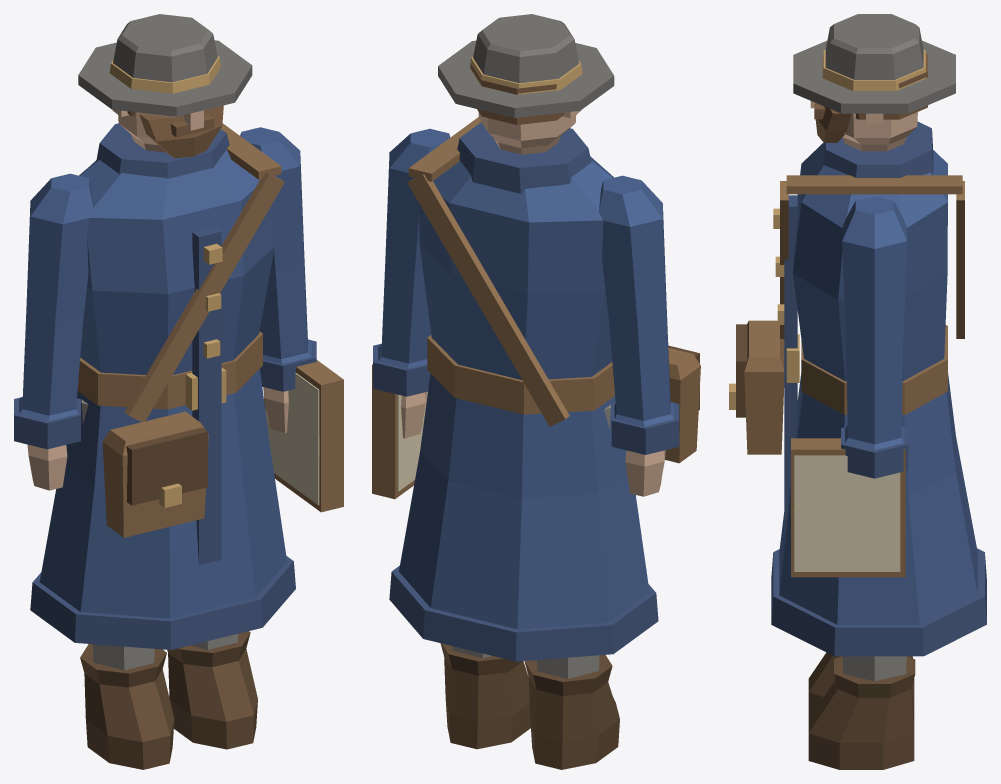
Rendered from cr-merchant.glb.
3 renders of one model, left to right at view 1: azimuth 30°, elevation 25°; view 2: azimuth 150°, elevation 25°; view 3: azimuth 270°, elevation 25°, orthographic.
Parts seen in each view (by area): view 1: coat, arm_r, hat, coat_hem, boot_r, boot_l, arm_l, coat_placket, strap_front, satchel, satchel_flap, ledger_pages (+13 smaller); view 2: coat, arm_r, hat, coat_hem, arm_l, boot_r, boot_l, strap_back, belt, collar, ledger, satchel (+10 smaller); view 3: coat, arm_l, ledger_pages, hat, boot_l, coat_hem, satchel, collar, strap_shoulder, belt, coat_placket, ledger (+11 smaller).
Part boxes in pixels (x1,y1,x2,y2): coat: (39, 150, 286, 618); arm_r: (19, 173, 93, 421); hat: (78, 14, 252, 116); coat_hem: (30, 556, 295, 649); boot_r: (80, 644, 174, 769); boot_l: (167, 631, 257, 749); arm_l: (240, 127, 311, 364); coat_placket: (192, 227, 221, 565); strap_front: (124, 172, 284, 421); satchel: (102, 411, 208, 537); satchel_flap: (126, 427, 207, 505); ledger_pages: (265, 373, 319, 505); coat: (399, 156, 649, 629); arm_r: (599, 175, 674, 426); hat: (438, 14, 614, 118); coat_hem: (389, 565, 658, 661); arm_l: (378, 128, 450, 368); boot_r: (524, 655, 619, 769); boot_l: (440, 643, 530, 749); strap_back: (407, 174, 569, 426); belt: (427, 335, 614, 414); collar: (457, 122, 591, 193); ledger: (372, 364, 414, 499); satchel: (665, 348, 700, 463); coat: (779, 143, 977, 624); arm_l: (842, 196, 906, 450); ledger_pages: (794, 455, 900, 571); hat: (793, 14, 955, 113); boot_l: (808, 656, 915, 769); coat_hem: (771, 548, 986, 656); satchel: (744, 320, 784, 454); collar: (823, 121, 933, 177); strap_shoulder: (786, 175, 962, 194); belt: (801, 325, 947, 414); coat_placket: (784, 195, 797, 534); ledger: (791, 438, 905, 577).
Size of what is drawn, in the model's own units: 0.796 by 1.76 by 0.5853.
